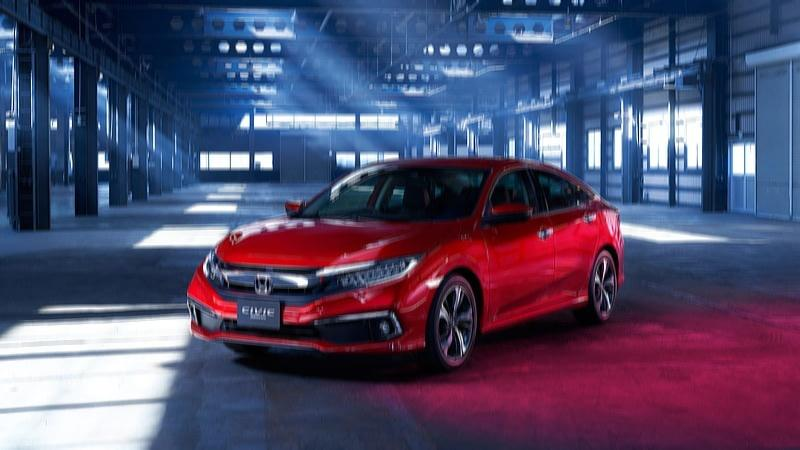Car hood: (212, 215, 470, 271)
Fender - -F-L-: (422, 225, 498, 341)
Fender - -R-L-: (585, 179, 628, 301)
Front bumper: (181, 279, 434, 359)
Headlight - -L-: (317, 251, 426, 299)
Headlight - -R-: (202, 249, 217, 280)
Passenger-s door - -F-L-: (479, 153, 562, 336)
Passenger-s door - -R-L-: (532, 151, 601, 331)
Side bumper - -L-: (477, 286, 589, 350)
Side mirror - -L-: (483, 201, 531, 232)
Side mirror - -R-: (281, 200, 307, 223)
